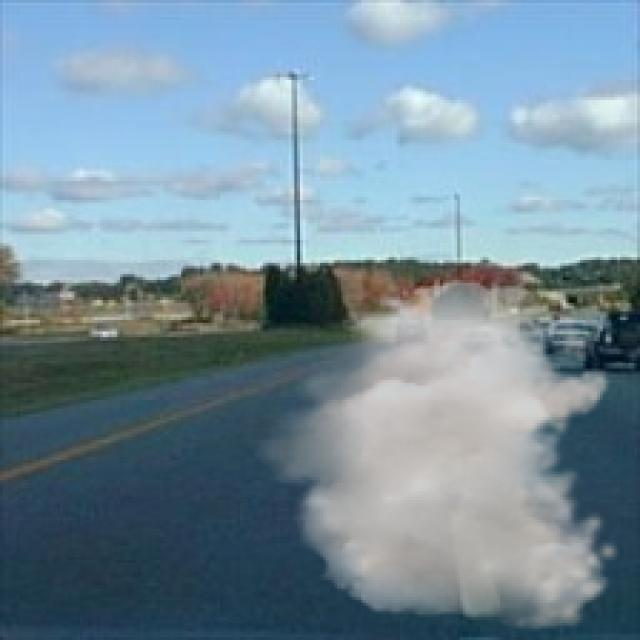smoke: (248, 280, 623, 631)
